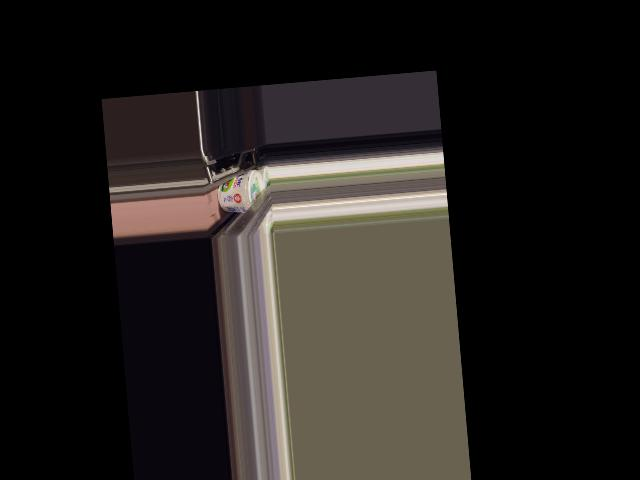cotage: (217, 172, 266, 215)
